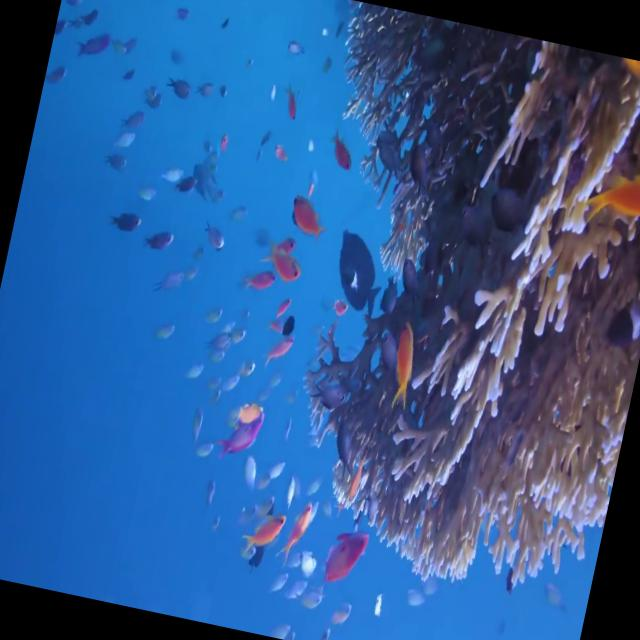fish: (314, 223, 392, 328), (373, 303, 429, 422), (573, 156, 640, 247), (246, 220, 312, 292), (316, 521, 374, 595), (211, 405, 267, 478), (276, 181, 340, 244), (275, 496, 314, 578), (320, 127, 370, 184), (238, 505, 288, 561), (101, 194, 150, 247), (132, 218, 178, 266), (226, 393, 269, 439), (233, 264, 278, 304), (257, 334, 297, 379), (72, 22, 113, 64), (98, 144, 140, 184), (154, 72, 198, 108), (165, 167, 202, 208), (275, 82, 304, 130), (324, 597, 356, 636)
